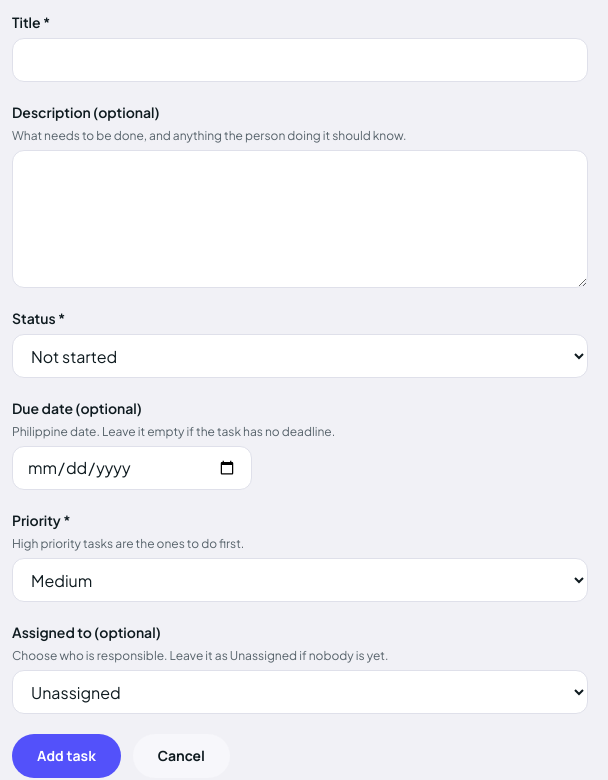
it: TaskForm status and due date (B6-F06, B6-F07) › lists a due date error in the summary and marks the field
Click the button "Add task" at (66, 756), box [12,734,121,778]
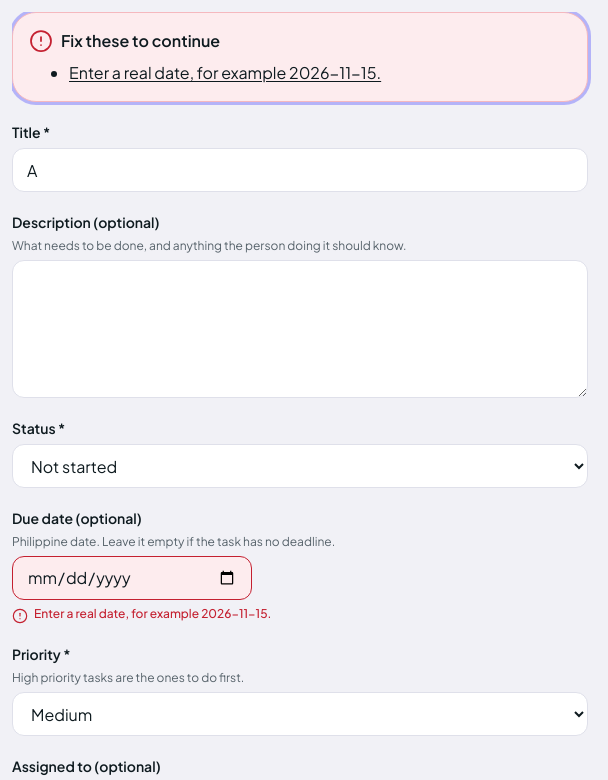
Expected: the element "Fix these to continue" shows "Enter a real date, for example 2026-11-15.", [69,62,381,83]
